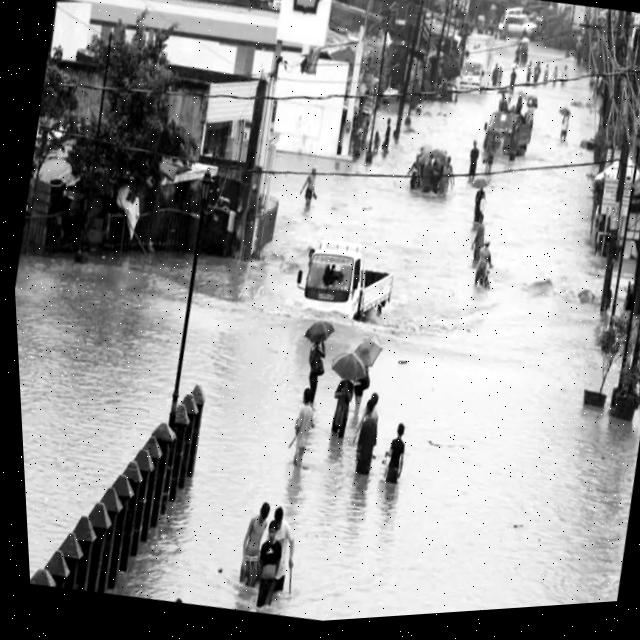civilian: (255, 495, 311, 605), (227, 497, 276, 595), (277, 382, 326, 474), (247, 521, 293, 616), (345, 397, 388, 487), (376, 415, 420, 492), (321, 368, 362, 442), (295, 331, 336, 392), (290, 162, 327, 226), (465, 236, 505, 293), (352, 379, 389, 436), (344, 358, 378, 420), (546, 103, 582, 155), (466, 206, 501, 255), (463, 178, 502, 221), (504, 113, 529, 168), (460, 136, 487, 185), (375, 112, 402, 161), (416, 149, 440, 199), (477, 131, 503, 175), (427, 156, 448, 197), (436, 161, 457, 201), (405, 154, 424, 193), (519, 53, 540, 87), (494, 87, 517, 117), (520, 99, 541, 131), (557, 59, 576, 93), (440, 152, 460, 182), (506, 64, 525, 95), (488, 61, 505, 92), (546, 61, 563, 91), (530, 60, 546, 90), (493, 62, 510, 90), (509, 91, 526, 118), (540, 60, 554, 91), (416, 145, 427, 157)
